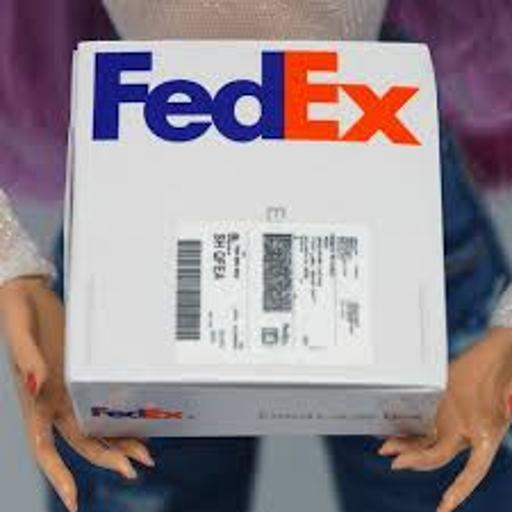FedEx: (67, 40, 452, 444)
